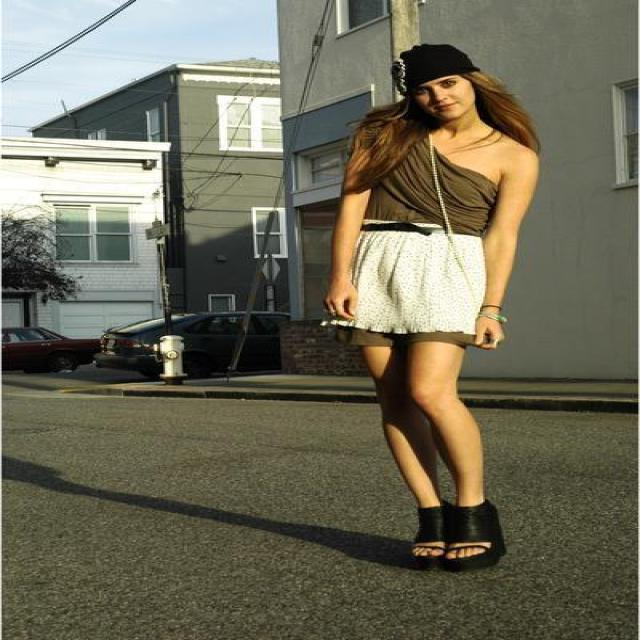dress: (315, 141, 504, 370)
hat: (390, 44, 477, 93)
shoe: (414, 499, 508, 575)
